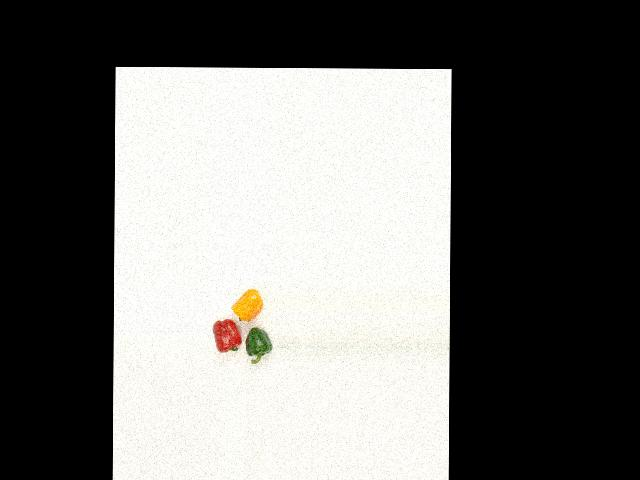bell_pepper: (243, 327, 272, 365)
